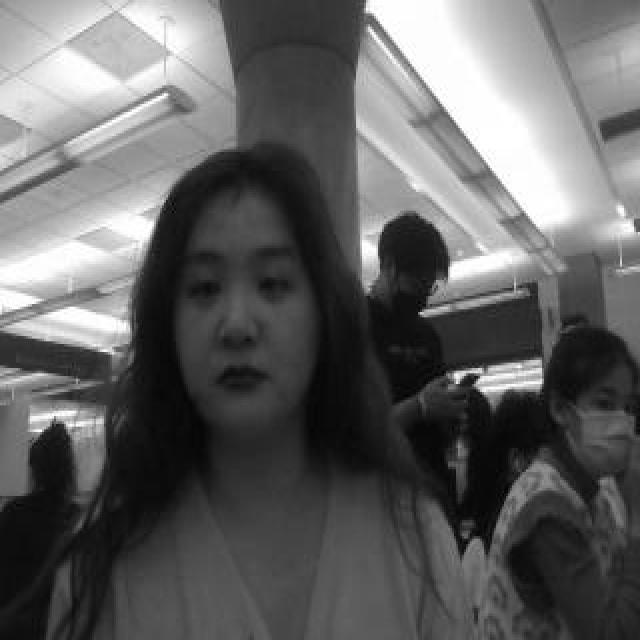Focused: (171, 190, 321, 438)
